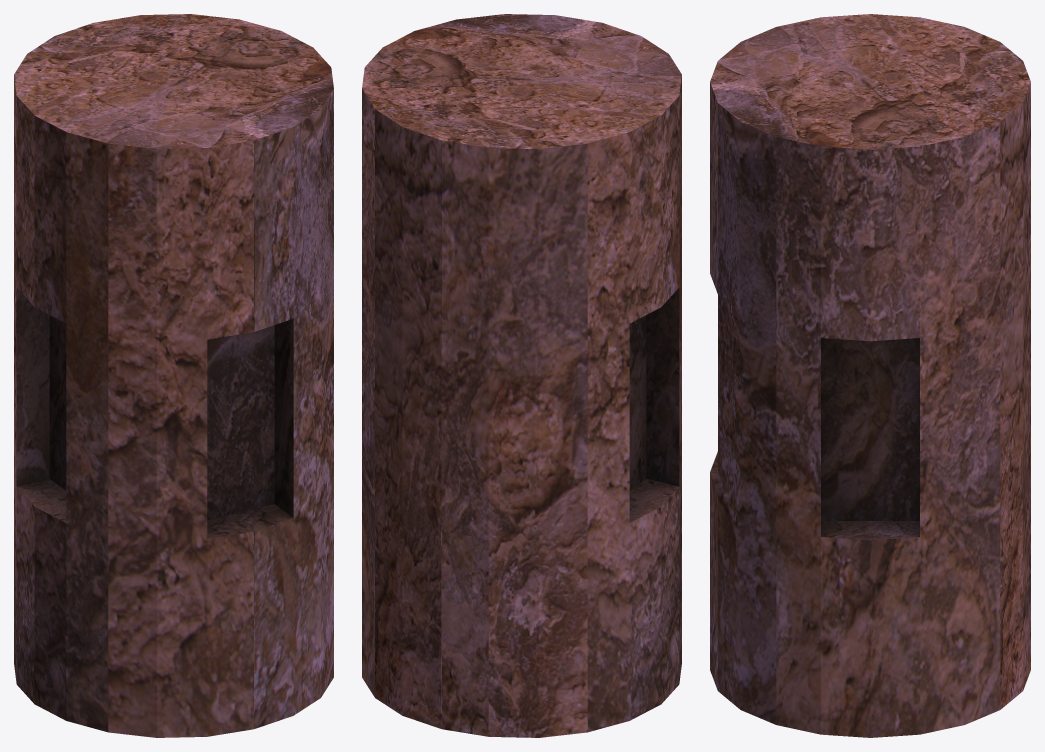
File: towerModel.fbx
The picture shows the model from 3 angles, left to right: view 1: azimuth 30°, elevation 25°; view 2: azimuth 150°, elevation 25°; view 3: azimuth 270°, elevation 25°; orthographic projection.
Visible parts, largest first — view 1: towerModel:pCylinder1; view 2: towerModel:pCylinder1; view 3: towerModel:pCylinder1.
Part boxes in pixels (left/top/right/bottom): towerModel:pCylinder1: left=14, top=14, right=333, bottom=737; towerModel:pCylinder1: left=362, top=14, right=681, bottom=737; towerModel:pCylinder1: left=710, top=14, right=1030, bottom=737.
Bounding box in the file's own units: 148 × 298 × 147.
